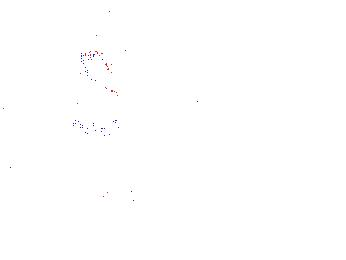flame jellyfish: (68, 49, 126, 140), (29, 144, 96, 211), (83, 163, 144, 216)
